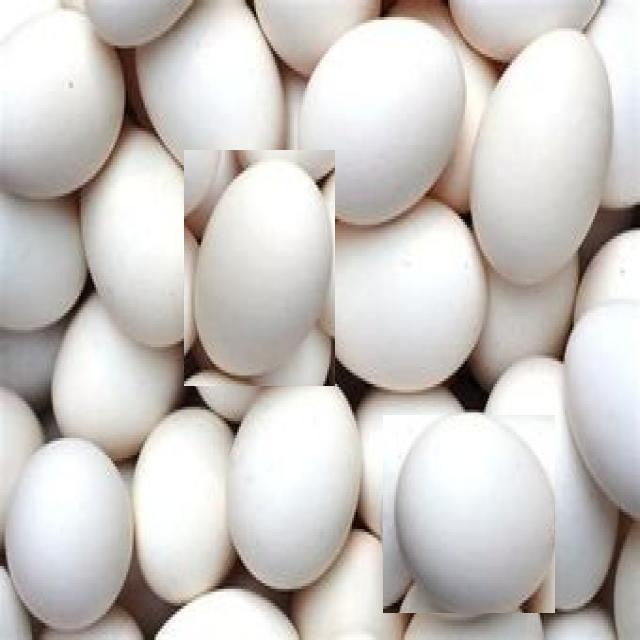Egg: (468, 22, 618, 296), (184, 150, 335, 386), (383, 415, 555, 613), (219, 364, 363, 598), (303, 18, 462, 228), (4, 421, 140, 634)
